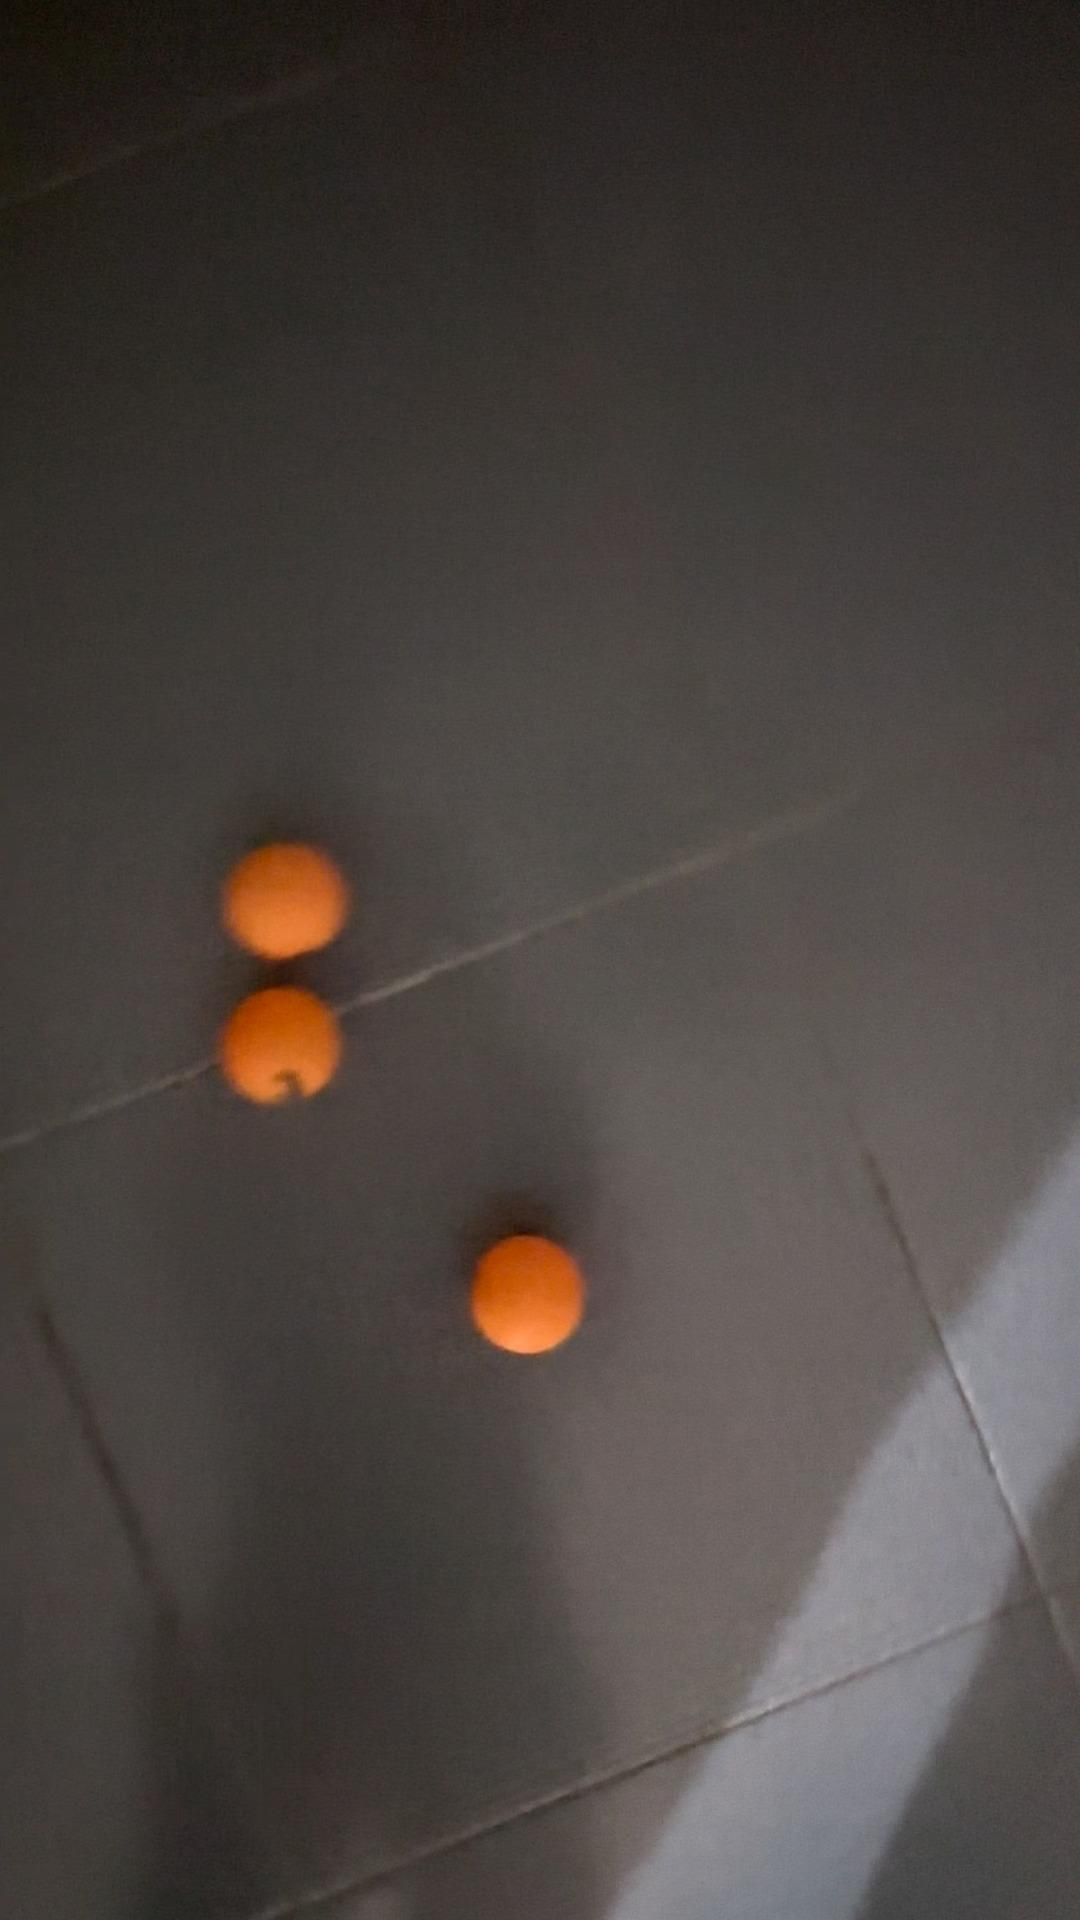oball: (222, 977, 352, 1114), (475, 1234, 601, 1369), (218, 848, 351, 967)
